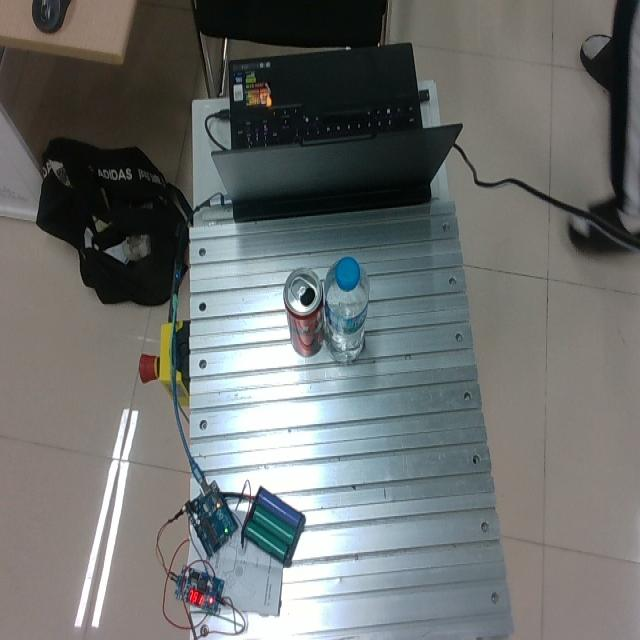coca: (282, 267, 326, 357)
lavie: (322, 256, 369, 363)
